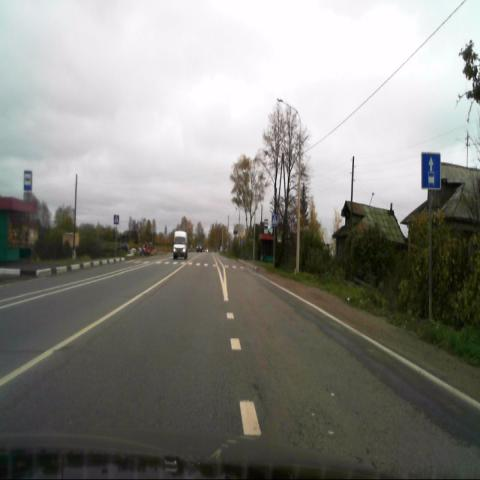5_14: (420, 150, 441, 191)
